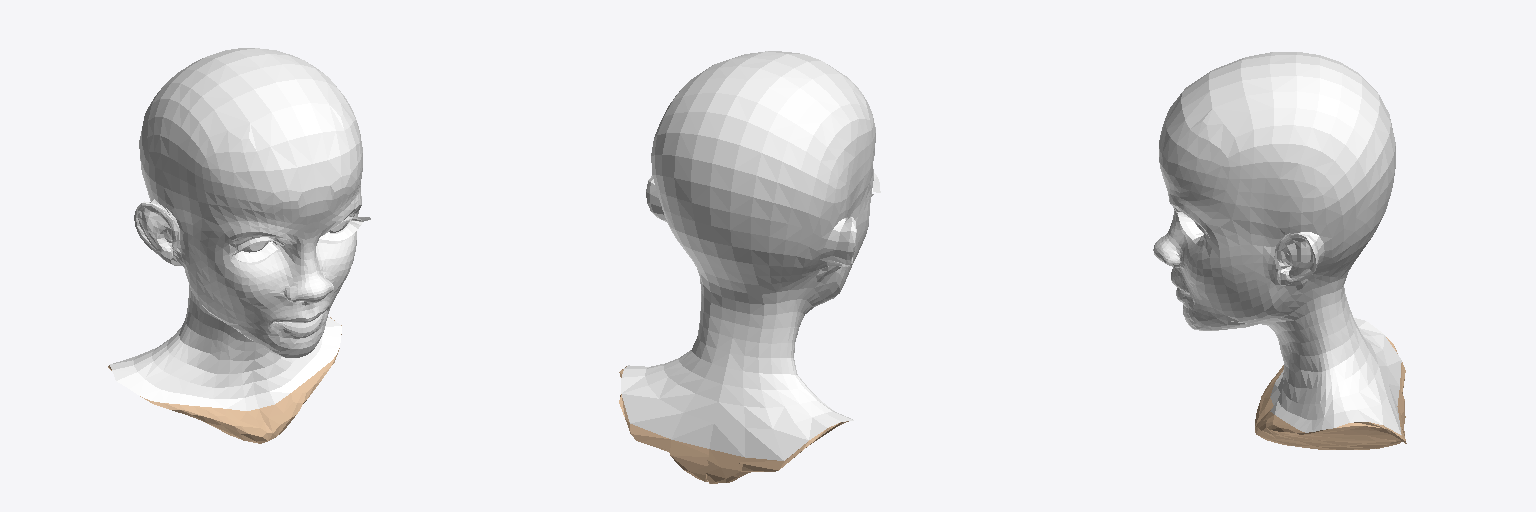
Rendered from nino1.obj.
The picture shows the model from 3 angles: view 1: azimuth 30°, elevation 25°; view 2: azimuth 150°, elevation 25°; view 3: azimuth 270°, elevation 25°; orthographic projection.
Parts seen in each view (by area): view 1: Body, Eyelashes; view 2: Body; view 3: Body.
Part boxes in pixels (bbox=[...]): Body: bbox=[110, 48, 362, 410]; Eyelashes: bbox=[232, 216, 370, 262]; Body: bbox=[621, 51, 875, 460]; Body: bbox=[1153, 52, 1401, 434].
Bounding box in the file's own units: 22.96 × 37.47 × 22.27.